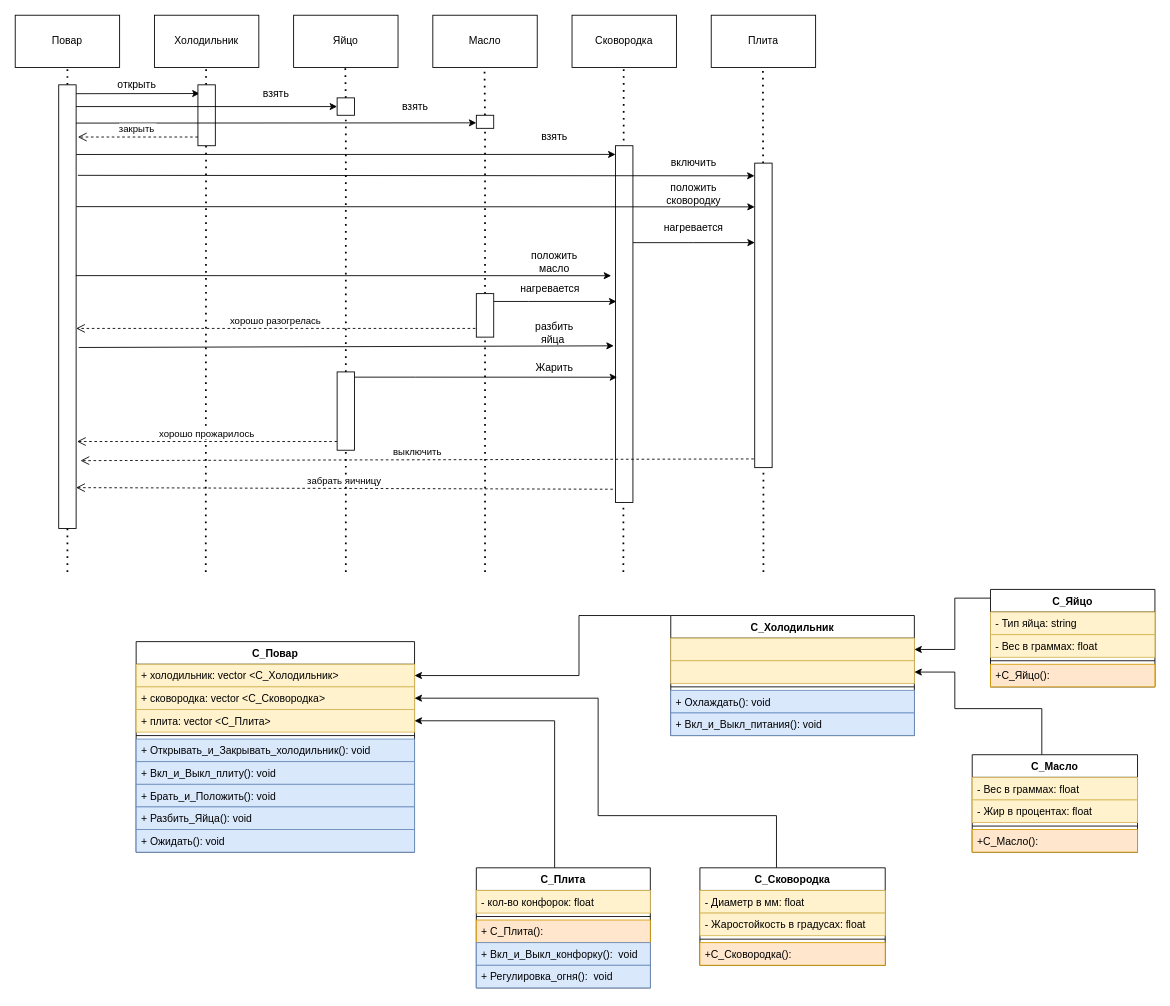
Some shapes in this 1170 by 1006 pixel diagram are drawn without their labels. Each missing label, with the centre of its shape:
+C_Масло: type: (x=792, y=671)
+C_Яйцо: type: (x=792, y=649)
